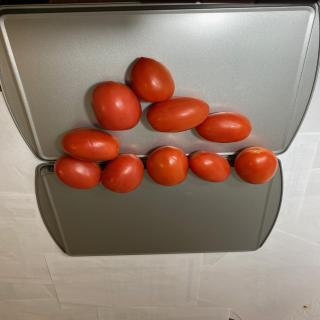Chilli: (53, 56, 279, 193)
Tomato: (90, 80, 142, 130), (146, 96, 210, 133), (130, 56, 175, 102), (61, 128, 120, 162), (195, 112, 252, 143), (146, 146, 189, 186), (234, 146, 279, 184), (102, 154, 144, 194), (54, 156, 102, 190), (189, 150, 231, 182)
